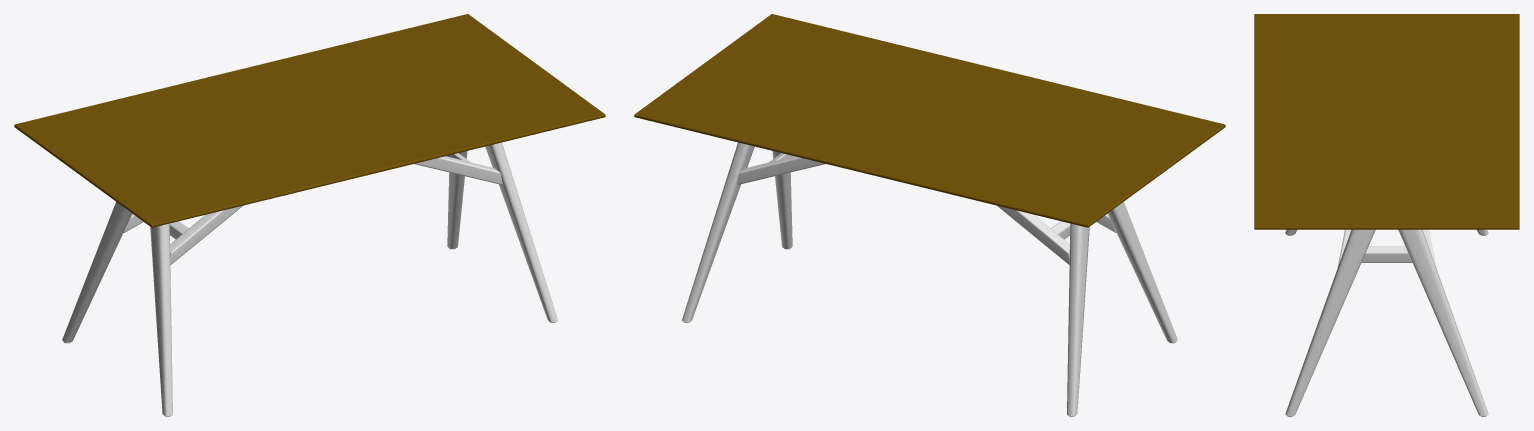
Rendered from Table.fbx.
The picture shows the model from 3 angles, left to right: view 1: azimuth 30°, elevation 25°; view 2: azimuth 150°, elevation 25°; view 3: azimuth 270°, elevation 25°; orthographic projection. The views are drawn at different scales.
Visible parts, largest first — view 1: Table; view 2: Table; view 3: Table.
Boxes of the visible parts, x1,y1,x2,y2 form: Table: (14, 14, 605, 416); Table: (634, 14, 1225, 416); Table: (1254, 14, 1519, 416).
Size of the model in its own units: 173 by 77.28 by 90.93.
